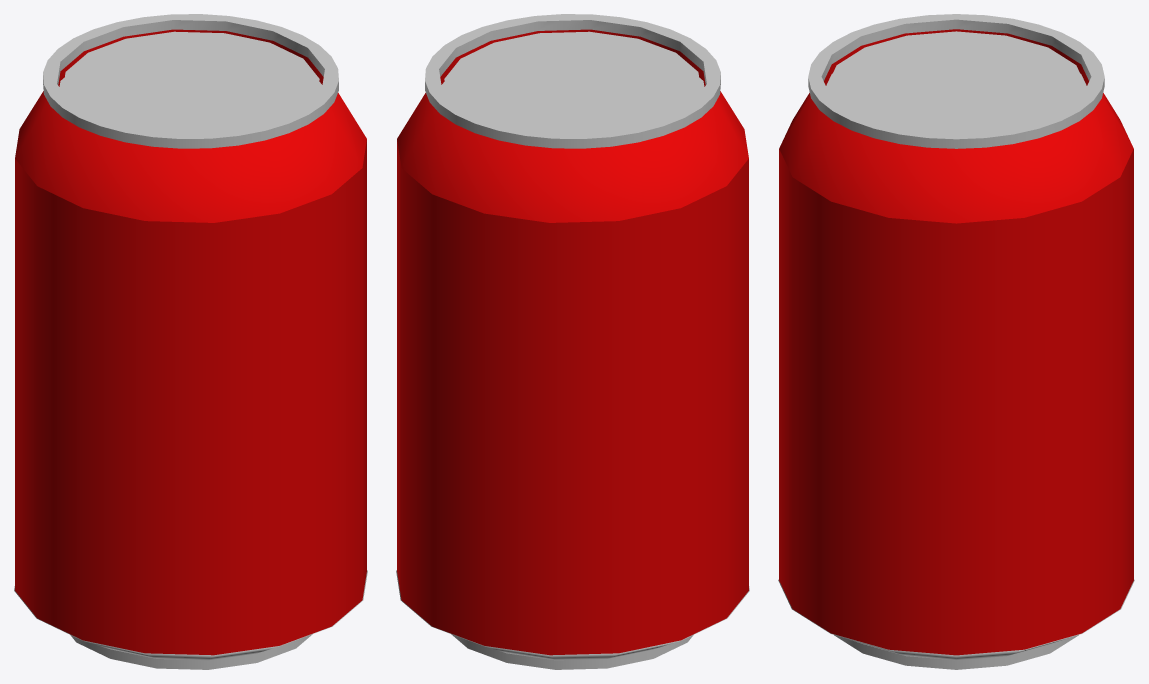
The model's file is Can.fbx.
3 renders of one model, left to right at view 1: azimuth 30°, elevation 25°; view 2: azimuth 150°, elevation 25°; view 3: azimuth 270°, elevation 25°, orthographic.
Visible parts, largest first — view 1: Can; view 2: Can; view 3: Can.
Part boxes in pixels (x1,y1,x2,y2): Can: (14,14,367,669); Can: (396,14,749,669); Can: (778,14,1134,669).
Size of the model in its own units: 673 by 1120 by 673.
